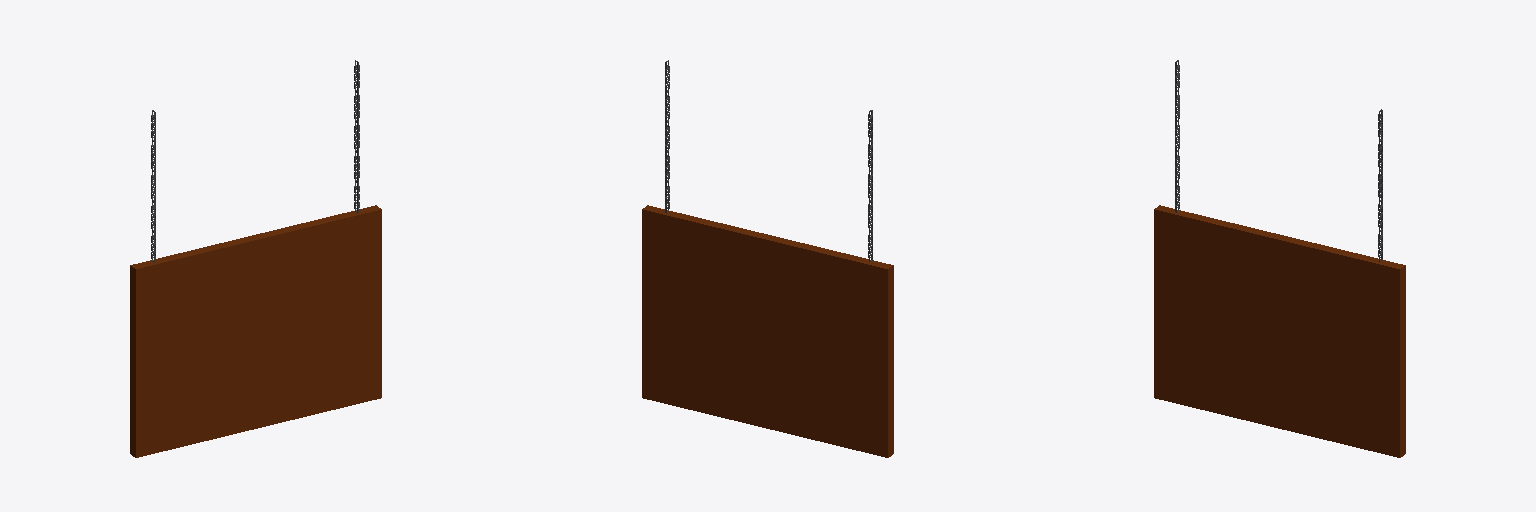
File: Sign4Edit.obj
3 views of the same model, side by side, from view 1: azimuth 30°, elevation 25°; view 2: azimuth 150°, elevation 25°; view 3: azimuth 330°, elevation 25° (orthographic).
Visible parts, largest first — view 1: Object.15; view 2: Object.15; view 3: Object.15.
Boxes of the visible parts, x1=… form: Object.15: x1=130, y1=205, x2=381, y2=457; Object.15: x1=642, y1=205, x2=893, y2=457; Object.15: x1=1154, y1=205, x2=1405, y2=457.
Size of the model in its own units: 30.82 by 40.72 by 1.22.